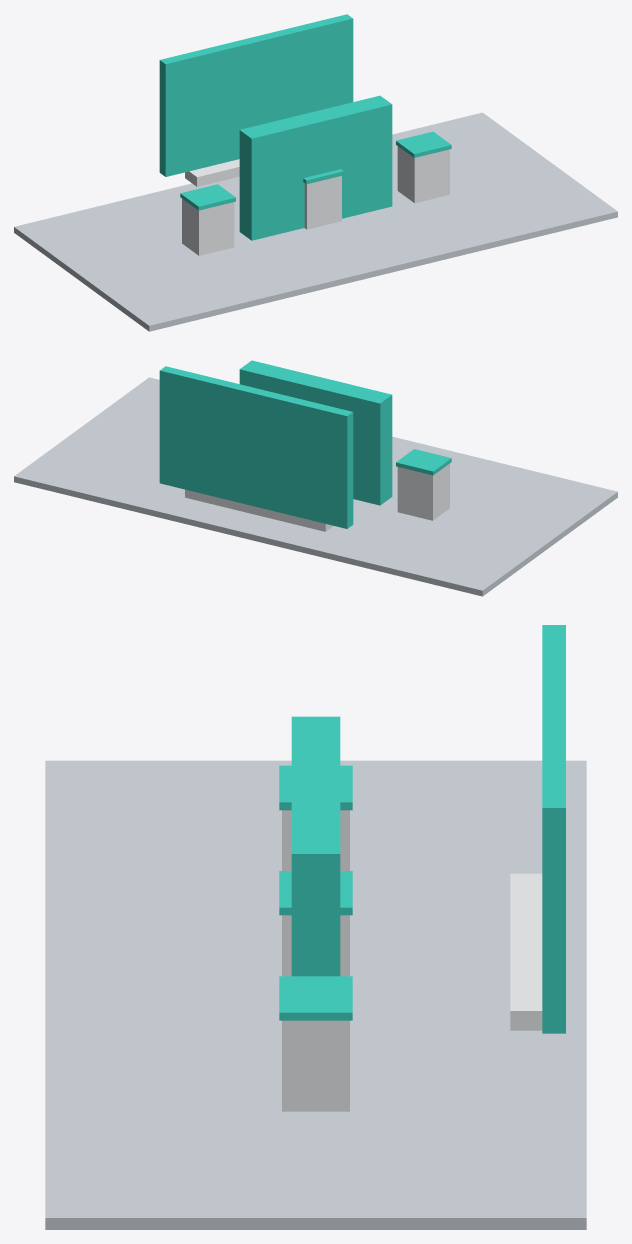
3 views of the same model, one above another, from view 1: azimuth 30°, elevation 25°; view 2: azimuth 150°, elevation 25°; view 3: azimuth 270°, elevation 25° (orthographic). The views are drawn at different scales.
Visible parts, largest first — view 1: Exhibition Booth Concept; view 2: Exhibition Booth Concept; view 3: Exhibition Booth Concept.
Part boxes in pixels (<box>): Exhibition Booth Concept: <box>14,14,617,331</box>; Exhibition Booth Concept: <box>14,360,617,596</box>; Exhibition Booth Concept: <box>45,625,586,1229</box>.
Size of the model in its own units: 10 by 2.9 by 5.
